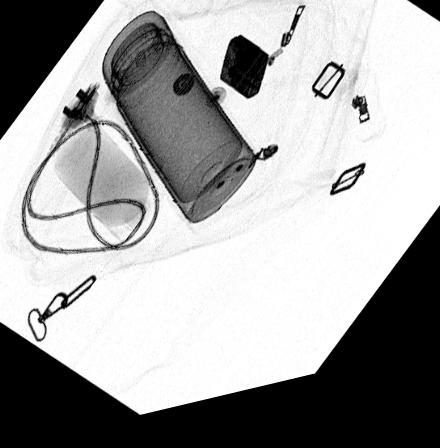Lighter: (218, 45, 268, 112)
